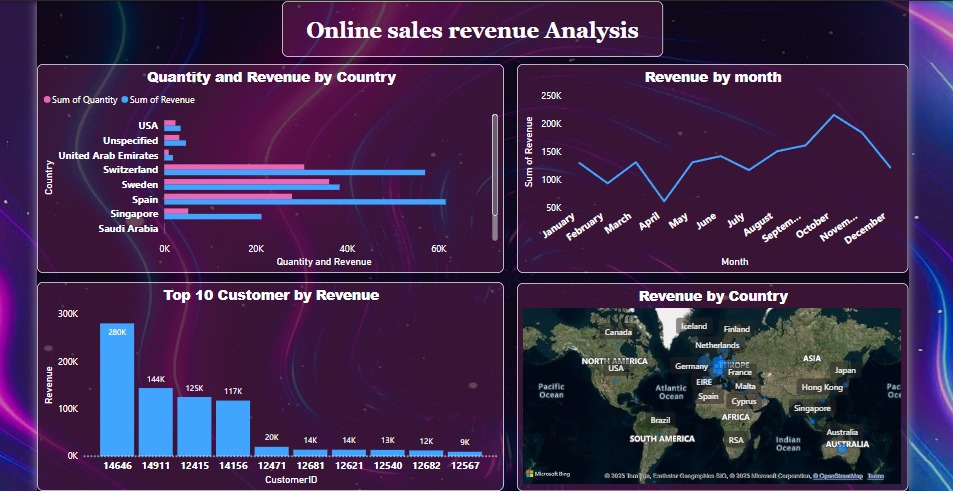

Layout of this report page (visuals, bound fields, positions):
{"tool":"powerbi","page":{"name":"Page 1","canvas":[1280,720],"ordinal":0},"visuals":[{"type":"clusteredBarChart","title":"Quantity and Revenue by Country","fields":{"Category":["Online Retail.Country"],"Y":["Sum(Online Retail.Quantity)","Sum(Online Retail.Revenue)"]},"box":[0,92.6,686.2,307.1],"z":0},{"type":"columnChart","title":"Top 10 Customer by Revenue","fields":{"Category":["Online Retail.CustomerID"],"Y":["Sum(Online Retail.Revenue)"]},"box":[0,412.9,686.2,307.1],"z":1000},{"type":"lineChart","title":"Revenue by month","fields":{"Y":["Sum(Online Retail.Revenue)"],"Category":["Online Retail.InvoiceDate.Variation.Date Hierarchy.Month"]},"box":[705.3,92.6,574.5,307.1],"z":2000},{"type":"map","title":"Revenue by Country","fields":{"Category":["Online Retail.Country"],"Size":["Sum(Online Retail.Revenue)"]},"box":[705.3,414.4,574.5,305.6],"z":3000},{"type":"textbox","box":[360,0,559.8,82.3],"z":4000}]}

Visuals, with their boxes in screenshot pixels (x1, y1, x2, y2):
"Quantity and Revenue by Country" clusteredBarChart: bbox=[42, 65, 504, 271]
"Top 10 Customer by Revenue" columnChart: bbox=[42, 280, 504, 487]
"Revenue by month" lineChart: bbox=[517, 65, 904, 271]
"Revenue by Country" map: bbox=[517, 281, 904, 487]
textbox: bbox=[284, 2, 661, 58]
